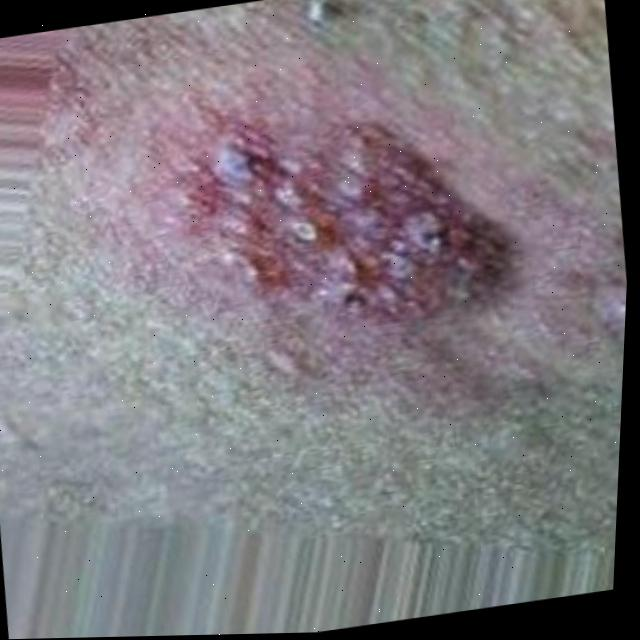Shingles: (184, 107, 499, 357)
